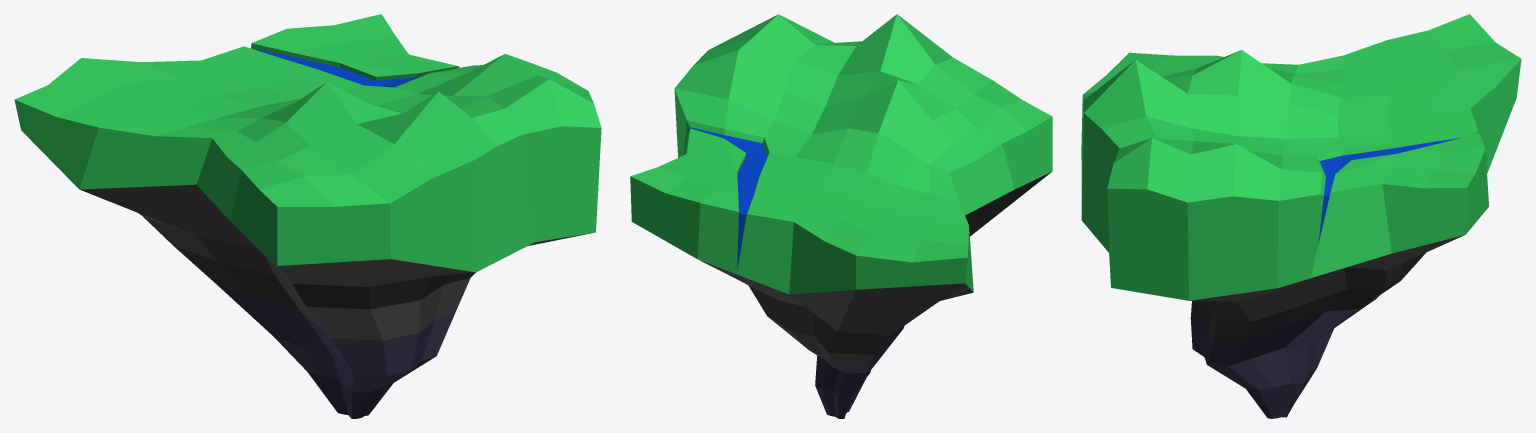
The model's file is island-draksanas2.fbx.
3 views of the same model, side by side, from view 1: azimuth 30°, elevation 25°; view 2: azimuth 150°, elevation 25°; view 3: azimuth 270°, elevation 25° (orthographic). The views are drawn at different scales.
Parts seen in each view (by area): view 1: Plane; view 2: Plane; view 3: Plane.
Part boxes in pixels (<box>): Plane: <box>14,14,601,418</box>; Plane: <box>630,14,1052,418</box>; Plane: <box>1081,14,1521,418</box>.
Bounding box in the file's own units: 348 × 291 × 324.
